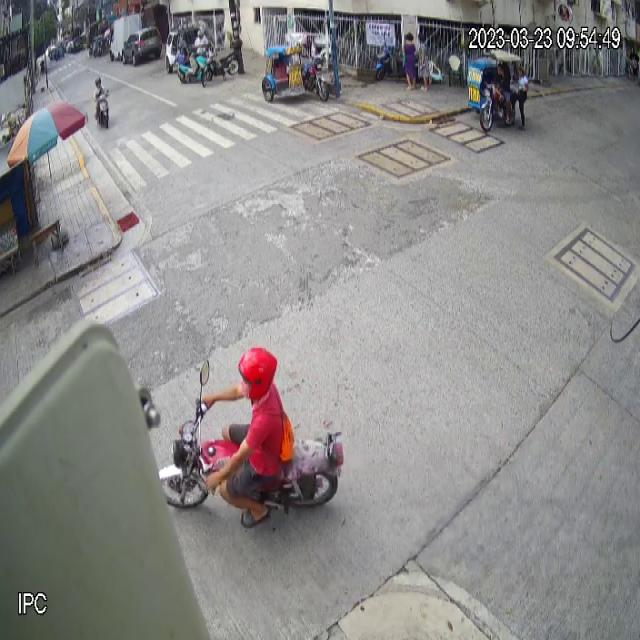Motorcycle: (158, 355, 346, 517)
Tricycle: (467, 51, 522, 131), (261, 44, 330, 104)
